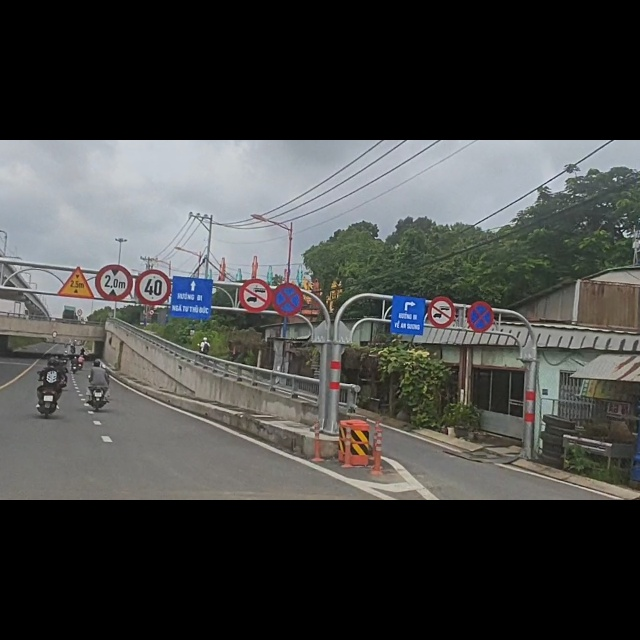bien_nguy_hiem: (95, 213, 134, 289), (135, 229, 173, 294), (57, 225, 95, 284), (241, 247, 273, 306), (273, 255, 304, 314), (424, 279, 457, 334), (467, 287, 496, 343)
